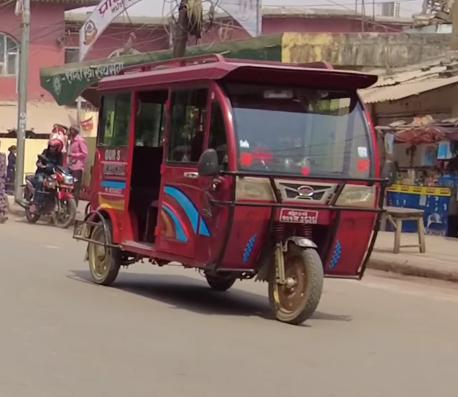bike: (21, 161, 77, 233)
e-rickshaw: (76, 57, 398, 327)
